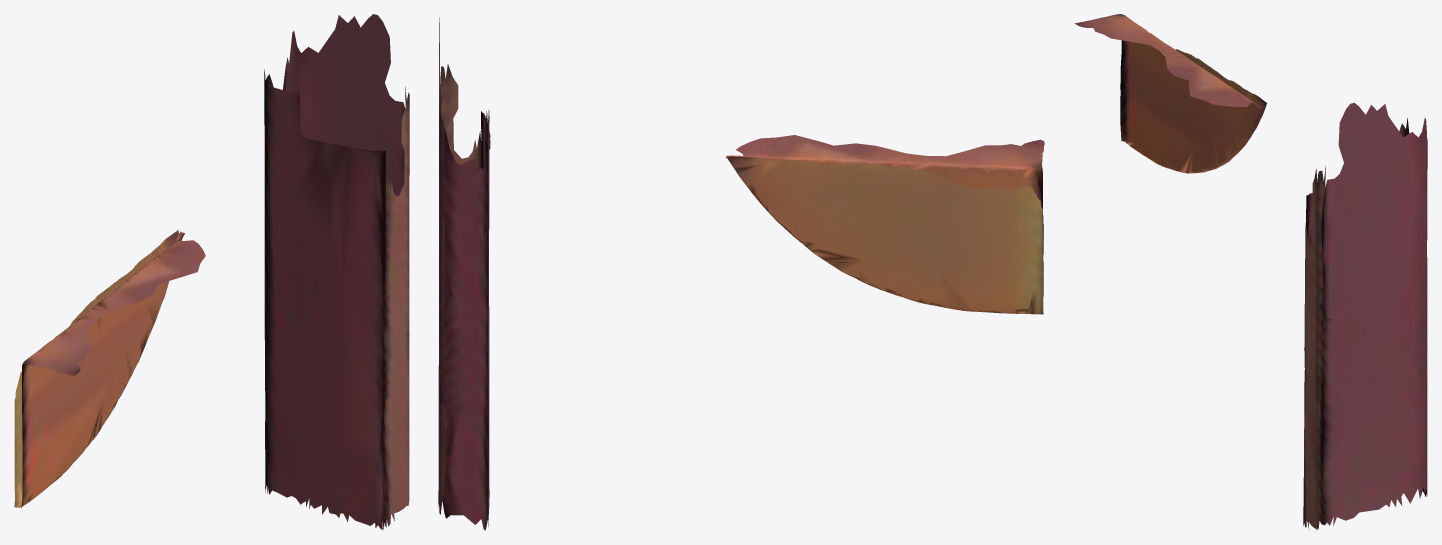
Rendered from mug.glb.
3 renders of one model, left to right at view 1: azimuth 30°, elevation 25°; view 2: azimuth 150°, elevation 25°; view 3: azimuth 270°, elevation 25°, orthographic. The views are drawn at different scales.
Visible parts, largest first — view 1: mug; view 2: mug; view 3: mug.
Part boxes in pixels (x1,y1,x2,y2): mug: [14, 14, 409, 529]; mug: [438, 17, 1044, 530]; mug: [1074, 14, 1427, 530].
Size of the model in its own units: 0.1854 by 0.1724 by 0.1281.
Materials: 1 (1 with a texture image).
